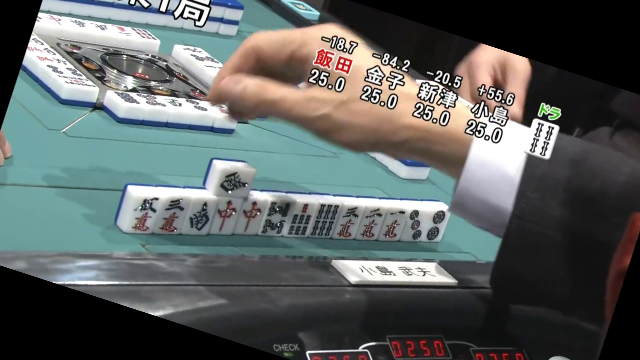Tehai: (110, 176, 454, 248)
